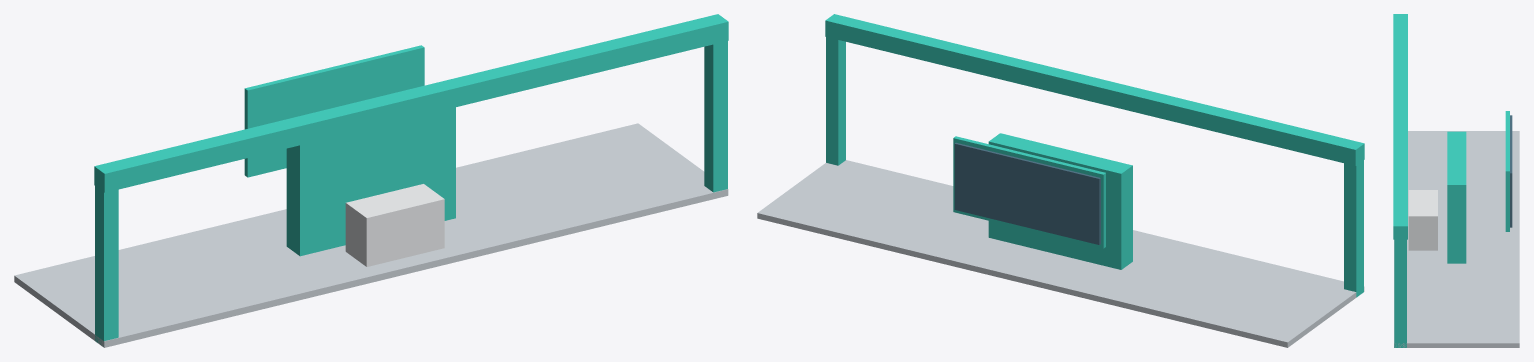
The picture shows the model from 3 angles, left to right: view 1: azimuth 30°, elevation 25°; view 2: azimuth 150°, elevation 25°; view 3: azimuth 270°, elevation 25°; orthographic projection. The views are drawn at different scales.
Parts seen in each view (by area): view 1: Exhibition Booth Concept; view 2: Exhibition Booth Concept; view 3: Exhibition Booth Concept.
Boxes of the visible parts, box(x1,y1,x2,y2) form: Exhibition Booth Concept: box(14, 14, 728, 347); Exhibition Booth Concept: box(757, 14, 1364, 347); Exhibition Booth Concept: box(1393, 14, 1519, 347).
Bounding box in the file's own units: 12 × 3.2 × 3.01.
